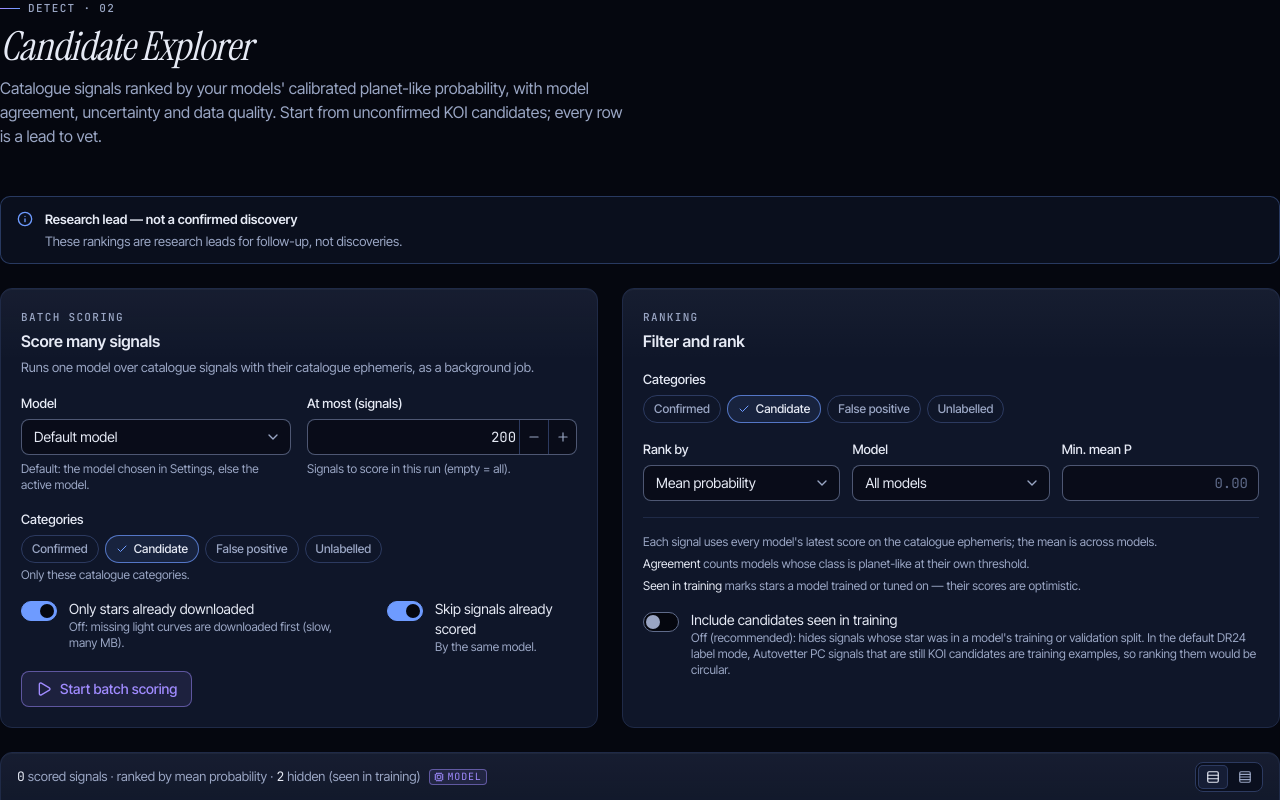
Candidate Explorer › explains a batch that has nothing to score
Click the button "Start batch scoring": (107, 689) top-left (21, 671), bottom-right (192, 707)
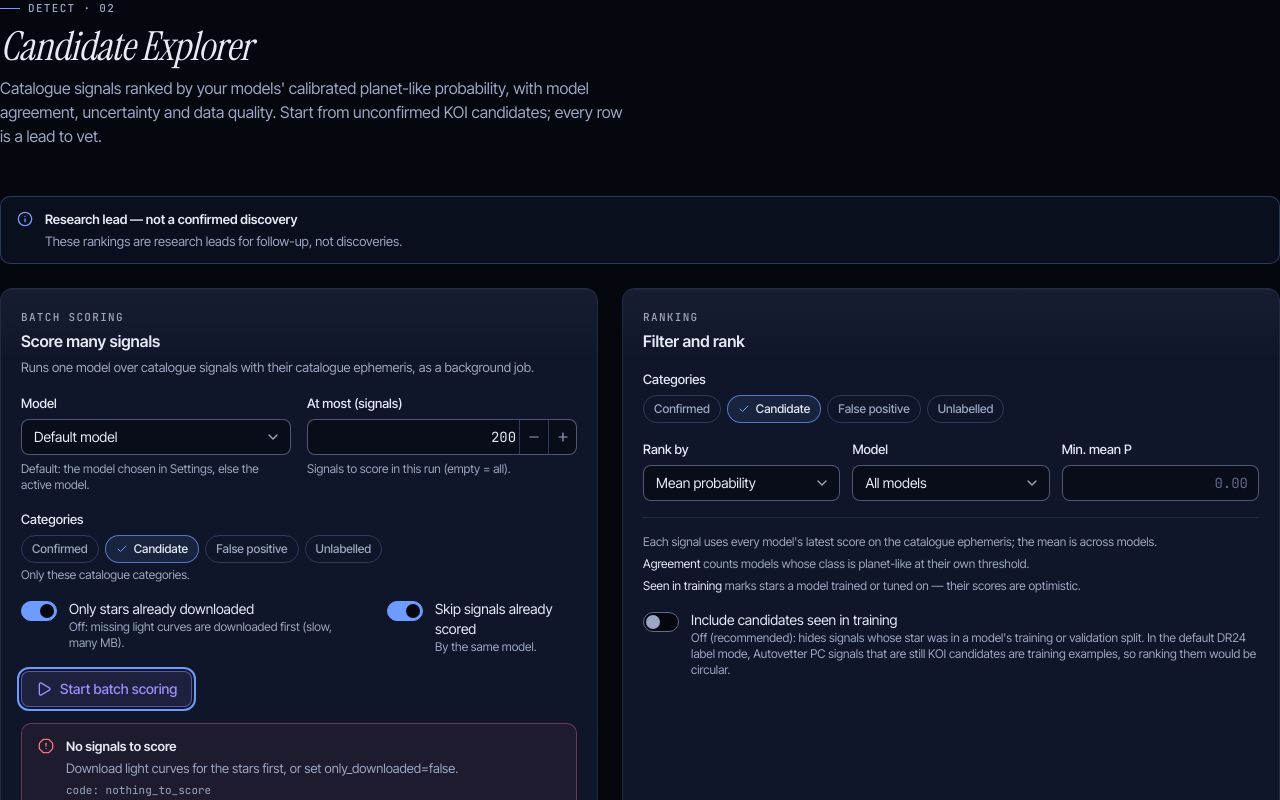
Result: the text "No signals to score" is shown at top-left (66, 738), bottom-right (176, 754)
Result: the text "Download light curves for the stars first" is shown at top-left (66, 760), bottom-right (458, 776)
